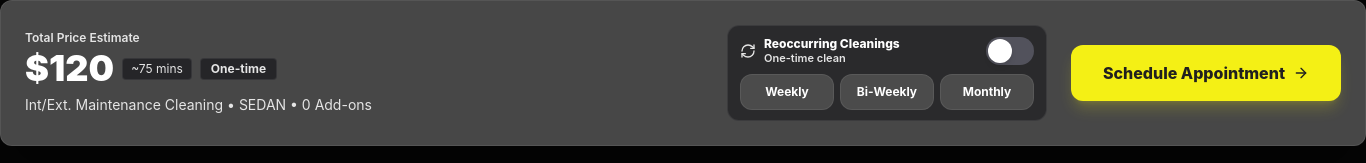
BookingSummaryBar › offers Weekly / Bi-Weekly / Monthly for maintenance packages only
Click the button "Monthly" at point(987, 92), box [940,74,1034,110]
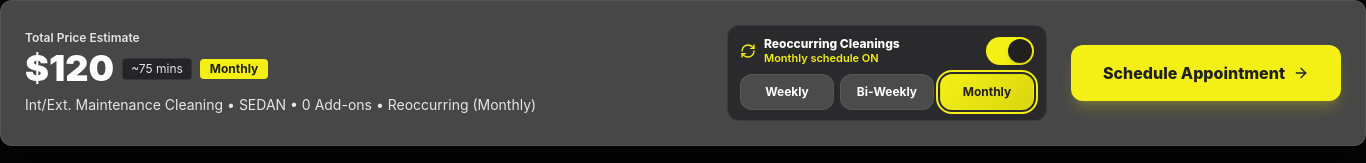
Expected: the switch named "Reoccurring Cleanings" is checked, [986,37,1034,65]
Click the button "Schedule Appointment" at point(1206, 73), box [1071,45,1341,101]
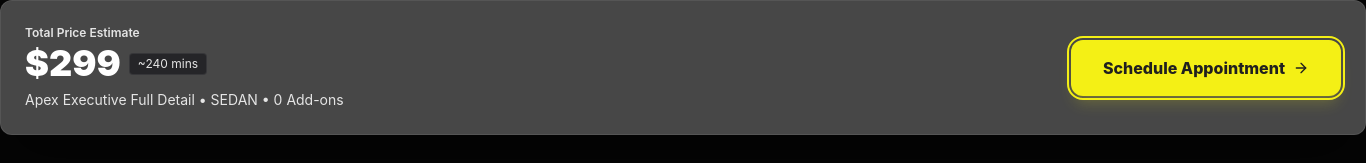
Expected: the switch is gone
